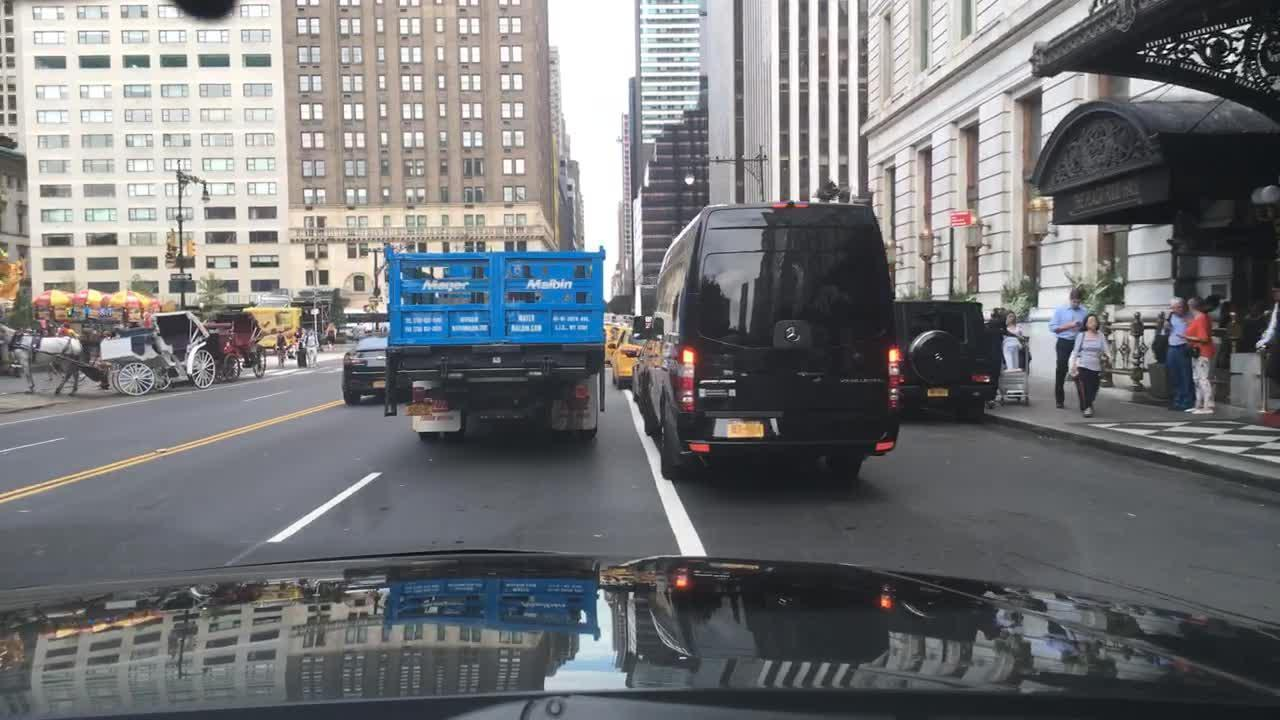Mercedes: (780, 322, 809, 348), (932, 346, 945, 368)
